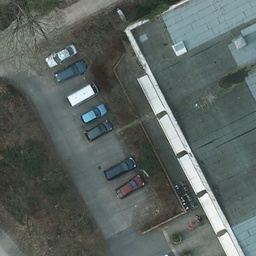car: (116, 174, 147, 200), (55, 63, 86, 85), (106, 157, 135, 180), (85, 121, 114, 143), (47, 47, 76, 68), (81, 104, 107, 125)
van: (65, 83, 100, 108)
